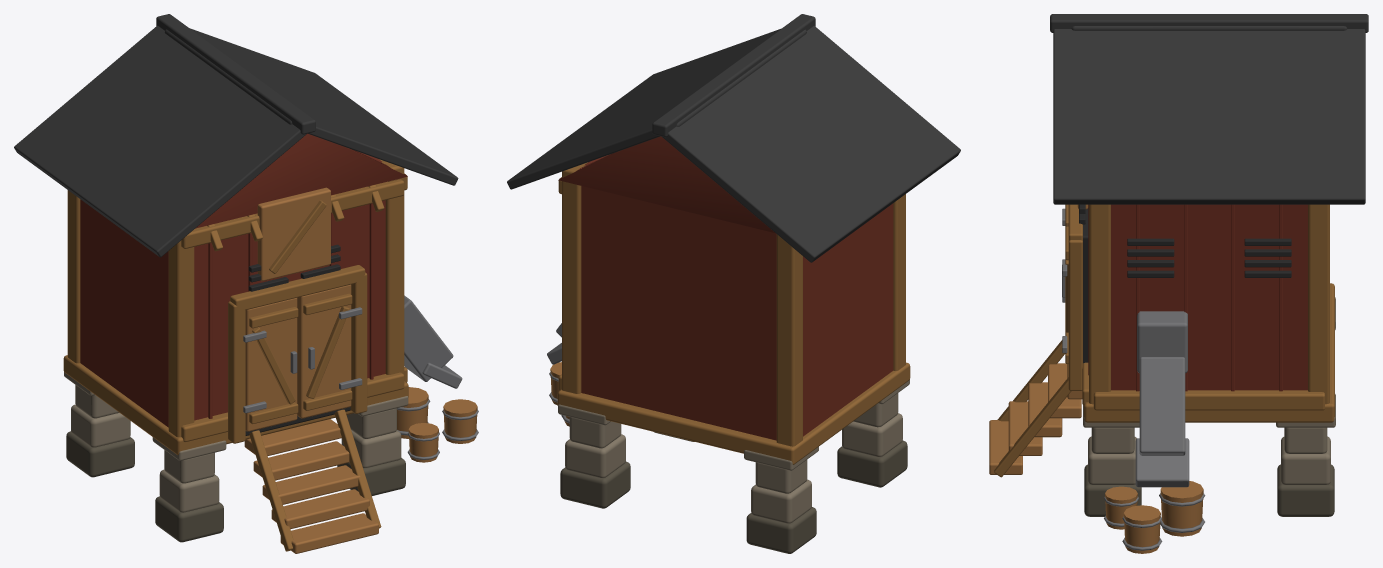
The model's file is granary.glb.
3 views of the same model, side by side, from view 1: azimuth 30°, elevation 25°; view 2: azimuth 150°, elevation 25°; view 3: azimuth 270°, elevation 25° (orthographic). The views are drawn at different scales.
Visible parts, largest first — view 1: granary-farm-roof-slate, granary-farm-barn-red-dark, granary-farm-wood-dark, granary-farm-wood, granary-farm-stone, granary-farm-stone-dark, granary-farm-metal, granary-farm-window; view 2: granary-farm-barn-red-dark, granary-farm-roof-slate, granary-farm-wood-dark, granary-farm-stone, granary-farm-stone-dark; view 3: granary-farm-roof-slate, granary-farm-barn-red-dark, granary-farm-wood-dark, granary-farm-metal, granary-farm-wood, granary-farm-stone, granary-farm-window, granary-farm-stone-dark.
Part boxes in pixels (bbox=[...]): granary-farm-roof-slate: bbox=[14, 14, 458, 257]; granary-farm-barn-red-dark: bbox=[80, 133, 407, 427]; granary-farm-wood-dark: bbox=[63, 159, 408, 551]; granary-farm-wood: bbox=[244, 187, 477, 553]; granary-farm-stone: bbox=[64, 372, 408, 512]; granary-farm-stone-dark: bbox=[66, 431, 405, 542]; granary-farm-metal: bbox=[243, 295, 478, 459]; granary-farm-window: bbox=[245, 244, 350, 435]; granary-farm-barn-red-dark: bbox=[558, 136, 893, 440]; granary-farm-roof-slate: bbox=[507, 14, 960, 262]; granary-farm-wood-dark: bbox=[557, 162, 910, 464]; granary-farm-stone: bbox=[558, 380, 909, 523]; granary-farm-stone-dark: bbox=[560, 431, 907, 553]; granary-farm-roof-slate: bbox=[1050, 14, 1368, 204]; granary-farm-barn-red-dark: bbox=[1088, 204, 1307, 391]; granary-farm-wood-dark: bbox=[994, 204, 1334, 477]; granary-farm-metal: bbox=[1062, 208, 1205, 550]; granary-farm-wood: bbox=[989, 204, 1203, 553]; granary-farm-stone: bbox=[1083, 297, 1335, 484]; granary-farm-window: bbox=[1079, 204, 1291, 363]; granary-farm-stone-dark: bbox=[1084, 464, 1334, 516].
Size of the model in its own units: 6.93 by 7.47 by 5.82.
